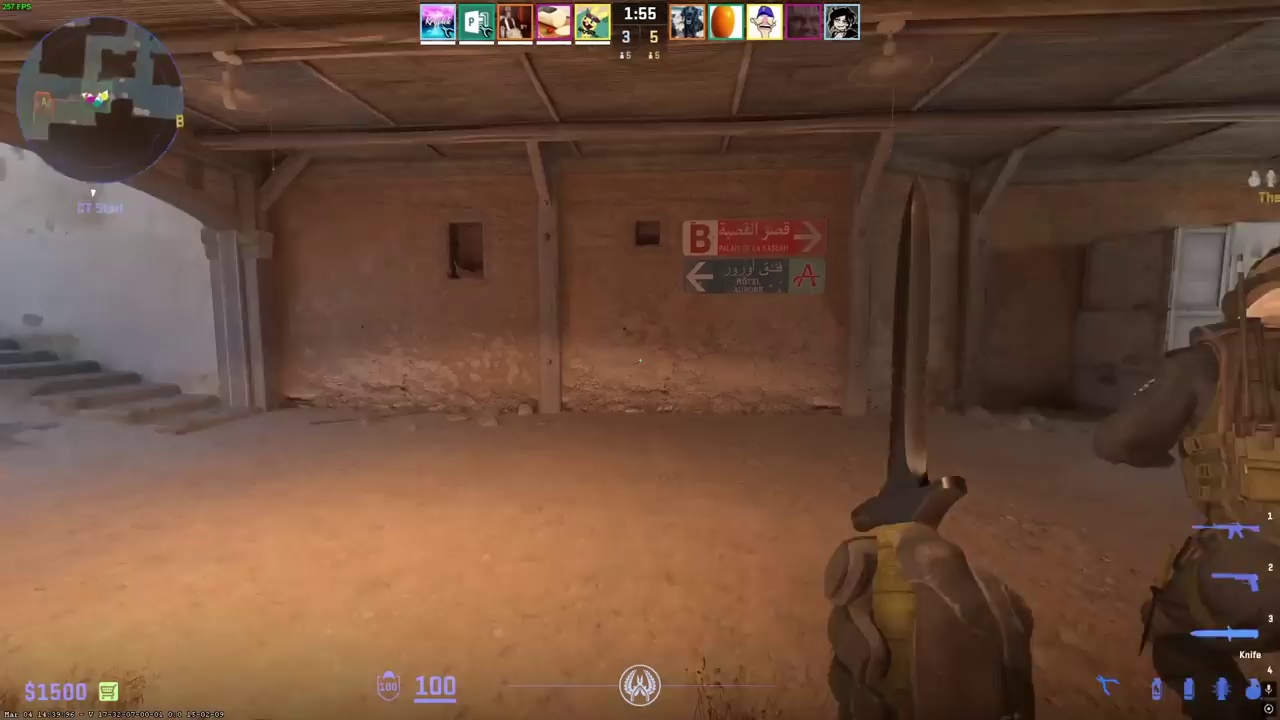CT: (1124, 247, 1280, 720)
